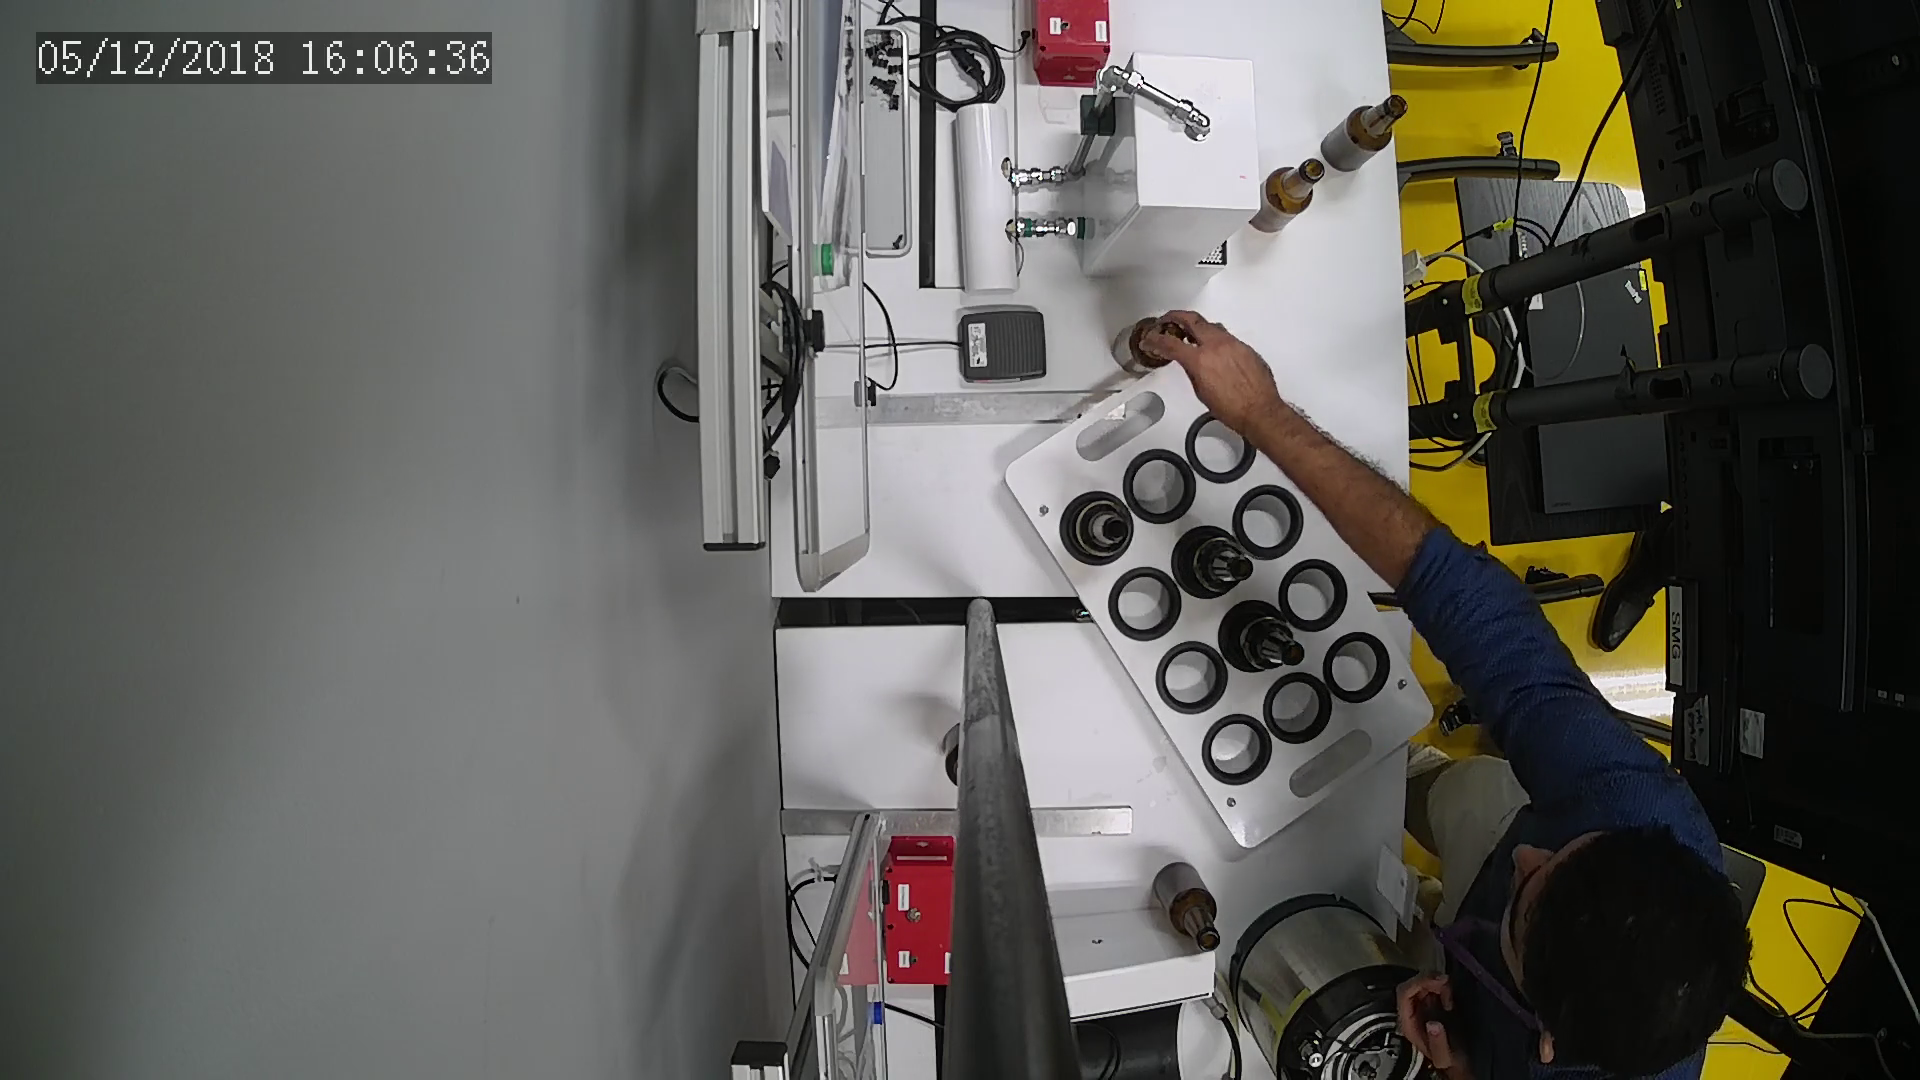filled_bottle: (1222, 599, 1305, 674), (1172, 530, 1254, 601), (1064, 491, 1131, 564)
trolley: (1004, 342, 1439, 851)
unfilled_bottle: (1323, 91, 1408, 174), (1154, 858, 1222, 959), (1249, 156, 1327, 233)
